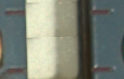border: (90, 65, 114, 74), (89, 8, 114, 16), (4, 9, 27, 17), (4, 67, 27, 75)
